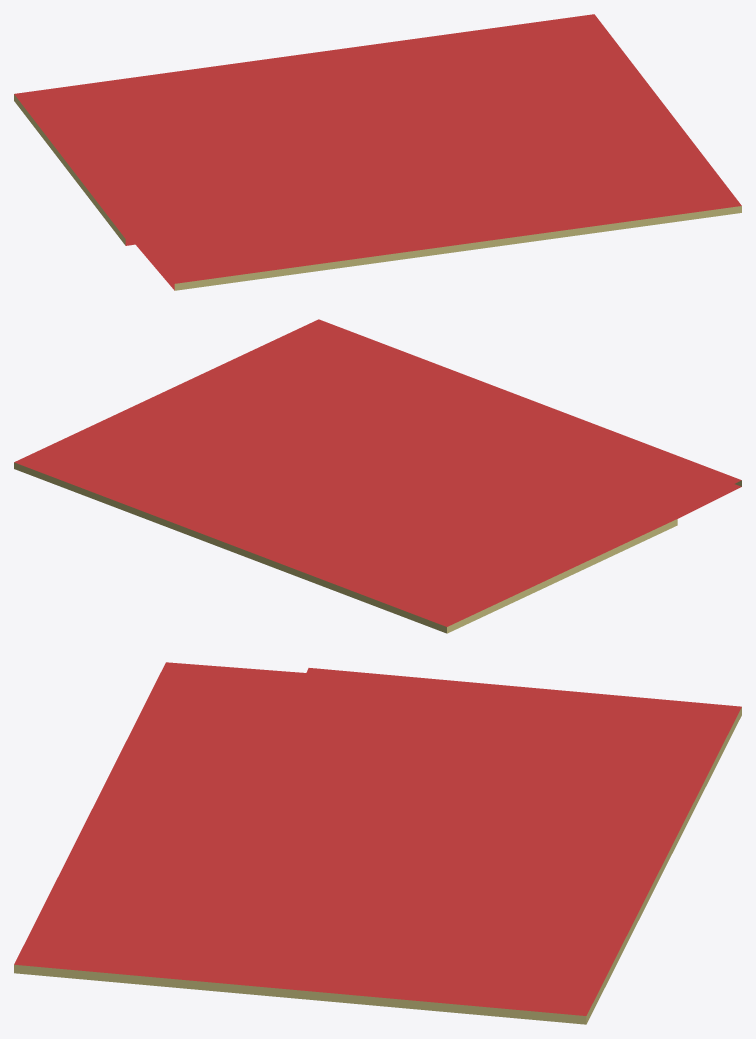
The picture shows the model from 3 angles, top to bottom: view 1: azimuth 30°, elevation 25°; view 2: azimuth 150°, elevation 25°; view 3: azimuth 270°, elevation 25°; orthographic projection. The views are drawn at different scales.
Size of the model in its own units: 8.88 by 7.72 by 0.1.
